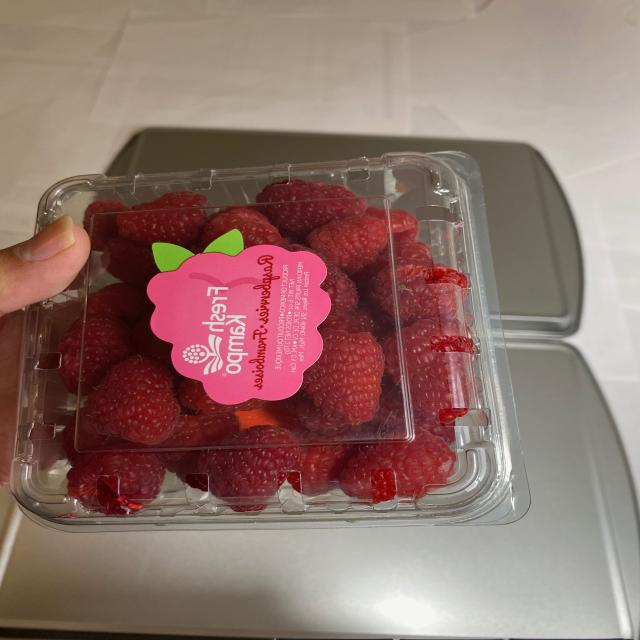raspberries: (56, 168, 478, 523)
